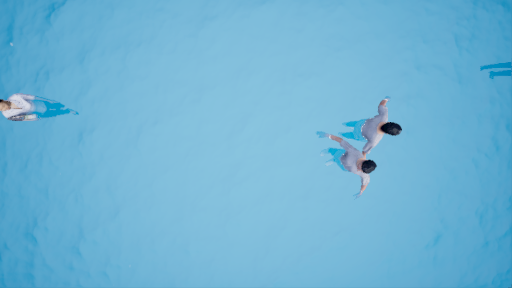person: (308, 132, 383, 202), (343, 88, 410, 155), (1, 80, 87, 127)
